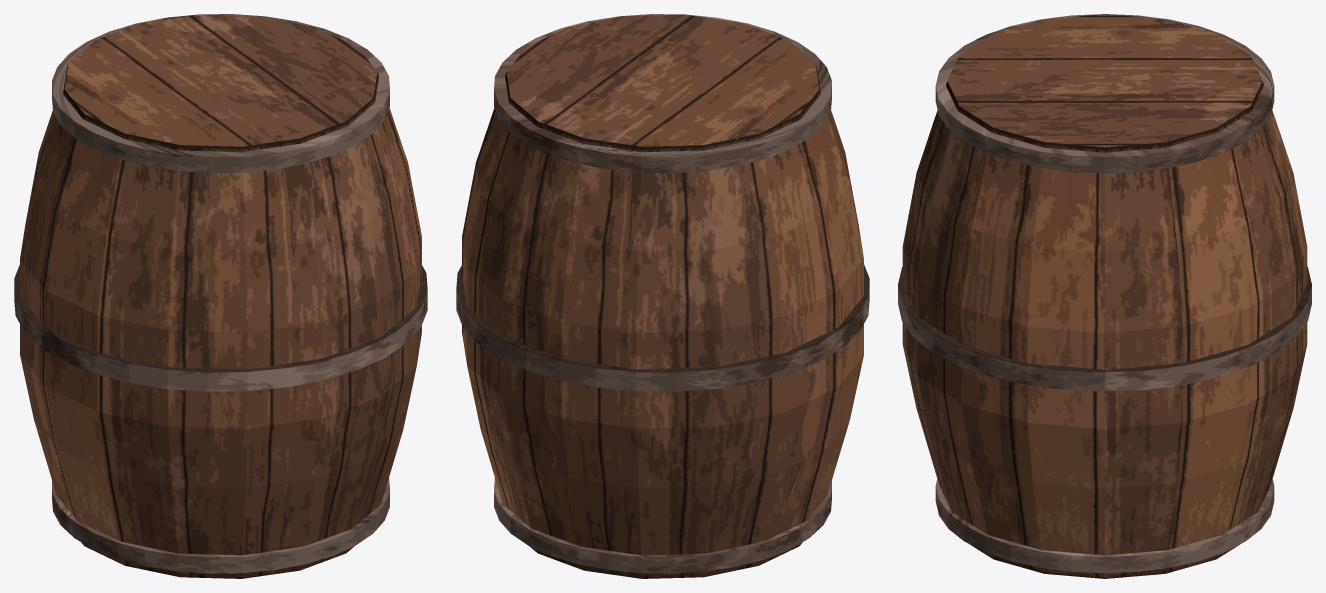
File: barrel_m1.fbx
3 views of the same model, side by side, from view 1: azimuth 30°, elevation 25°; view 2: azimuth 150°, elevation 25°; view 3: azimuth 270°, elevation 25° (orthographic).
Parts seen in each view (by area): view 1: Barrel; view 2: Barrel; view 3: Barrel.
Boxes of the visible parts, x1,y1,x2,y2 form: Barrel: (14, 14, 427, 578); Barrel: (456, 14, 869, 578); Barrel: (898, 14, 1311, 578).
Size of the model in its own units: 1.39 by 1.39 by 1.6.
